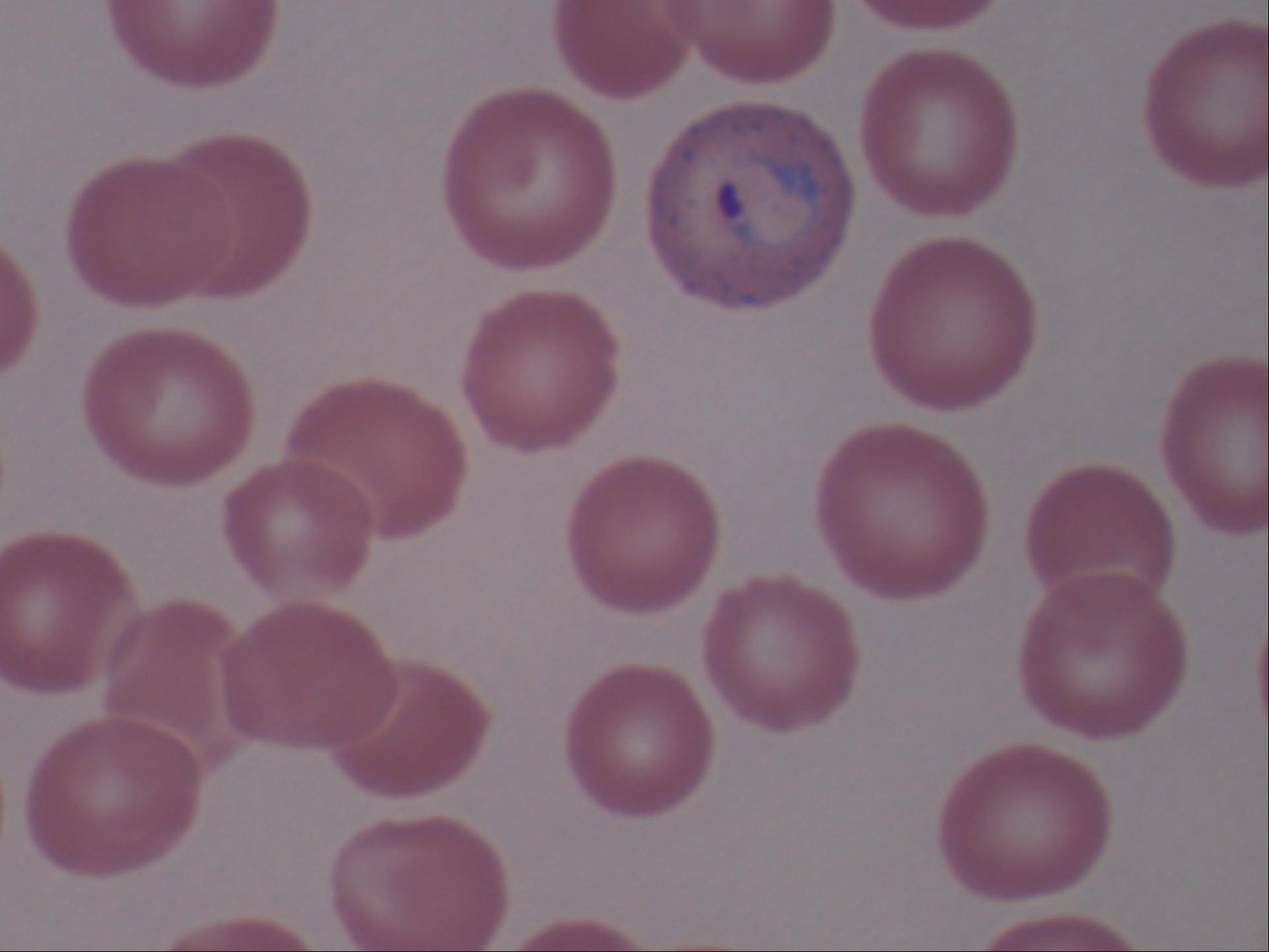Infected: (414, 639, 625, 848)
Uninfected: (964, 646, 1191, 815), (278, 351, 452, 532), (653, 682, 826, 860), (235, 543, 399, 710), (807, 416, 981, 570), (163, 49, 328, 209), (871, 201, 1049, 349), (87, 213, 247, 376), (1071, 73, 1240, 227), (251, 739, 407, 900), (1017, 467, 1180, 618), (650, 501, 804, 658), (1022, 190, 1170, 353), (548, 337, 701, 492), (413, 221, 563, 371), (765, 3, 933, 133), (785, 153, 935, 291), (557, 136, 699, 279), (896, 356, 1045, 492), (1, 766, 124, 926), (1140, 261, 1269, 412), (99, 357, 245, 486), (2, 421, 108, 585)
